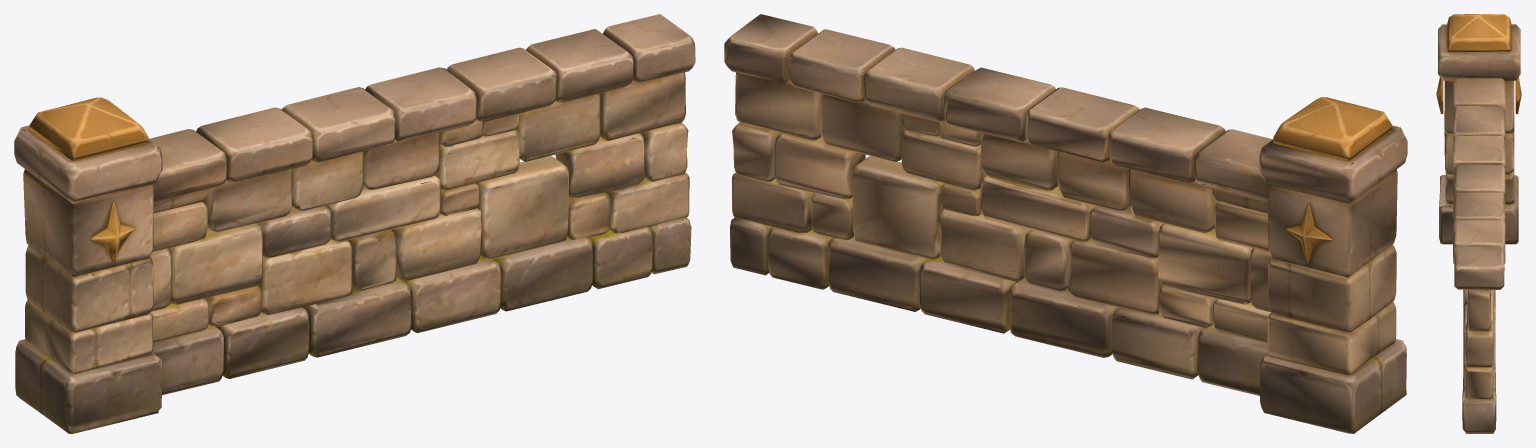
Rendered from town-wall.web.glb.
3 renders of one model, left to right at view 1: azimuth 30°, elevation 25°; view 2: azimuth 150°, elevation 25°; view 3: azimuth 270°, elevation 25°, orthographic. The views are drawn at different scales.
Parts seen in each view (by area): view 1: town-wall; view 2: town-wall; view 3: town-wall.
Part boxes in pixels (left/top/right/bottom): town-wall: left=14, top=14, right=695, bottom=433; town-wall: left=724, top=14, right=1407, bottom=433; town-wall: left=1436, top=14, right=1521, bottom=433.
Bounding box in the file's own units: 4 × 1.8 × 0.6499.
1 material, 1 textured.
